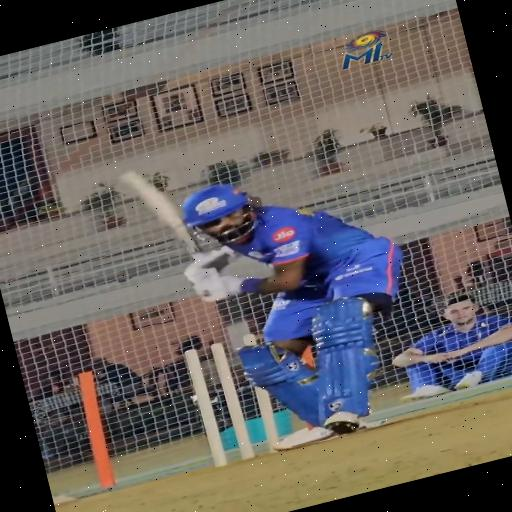Cricket bat: (121, 172, 200, 252)
